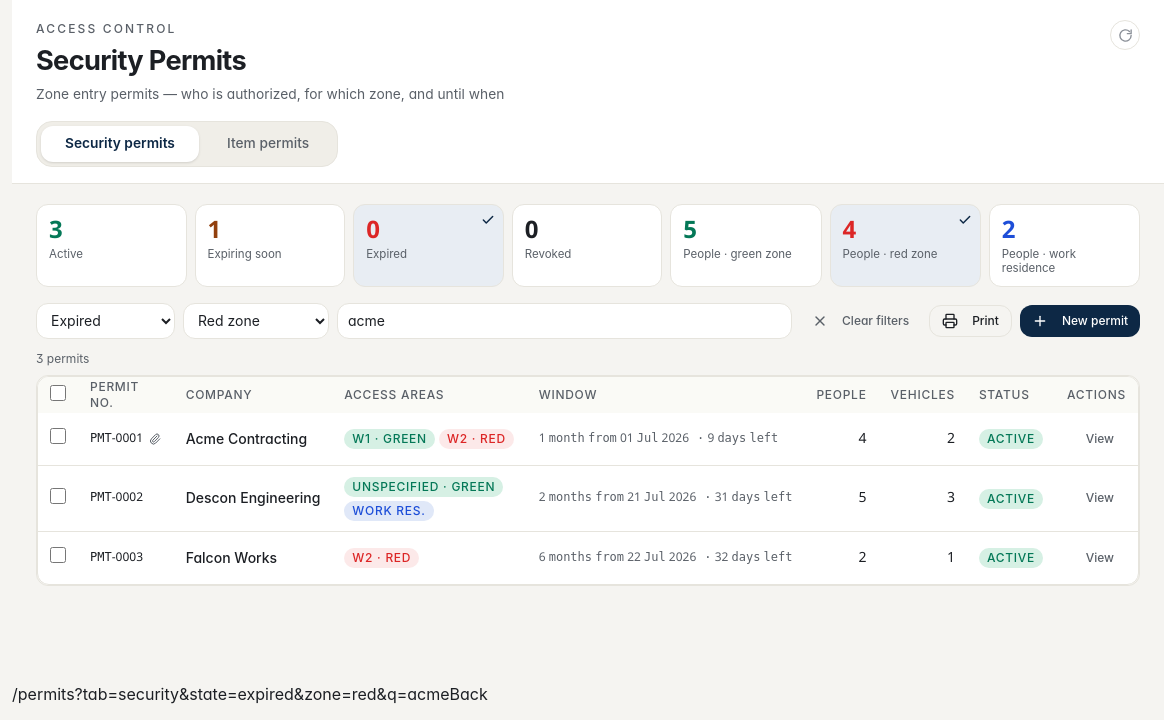
Test case: PermitsPage › Clear filters removes state, zone and q but keeps other params
Expected: the text "Acme Contracting" is shown, [174, 412, 332, 465]
Click the button "Clear filters" at {"x": 861, "y": 320}, box [800, 304, 921, 336]
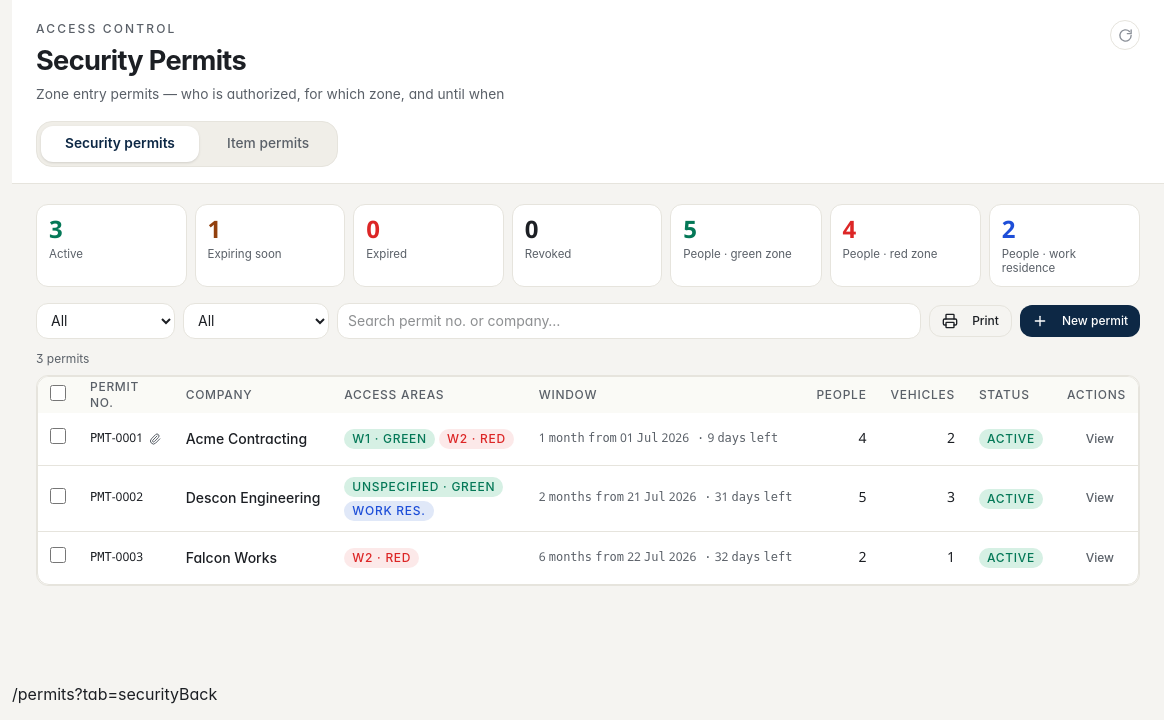
Expected: the text with test id "location" reads "/permits?tab=security", [12, 684, 179, 704]
Expected: the button "Clear filters" is gone
